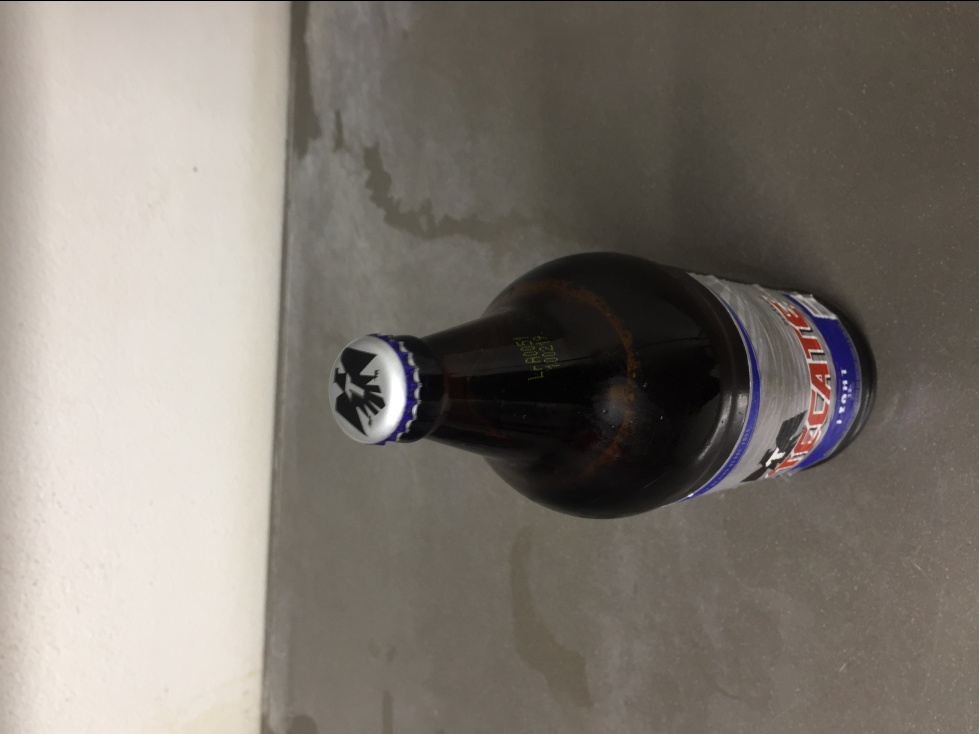tecateC: (328, 250, 876, 525)
